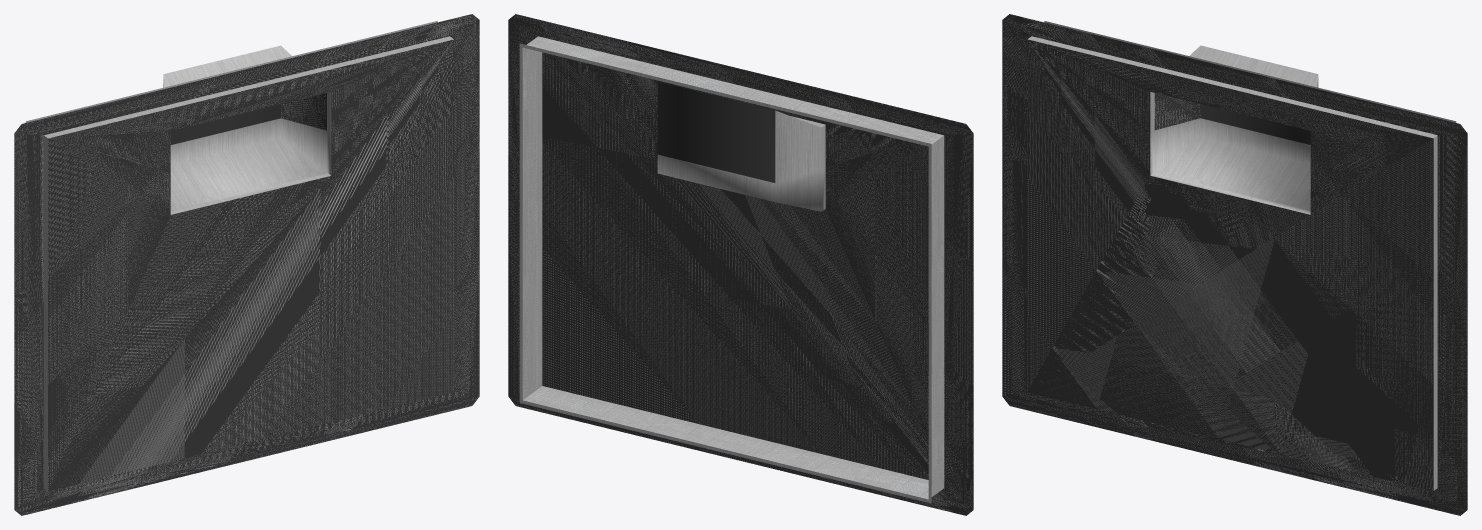
Rendered from original-29.obj.
3 renders of one model, left to right at view 1: azimuth 30°, elevation 25°; view 2: azimuth 150°, elevation 25°; view 3: azimuth 330°, elevation 25°, orthographic.
Visible parts, largest first — view 1: mesh27/mesh27-geometry#mesh27-geometry; view 2: mesh27/mesh27-geometry#mesh27-geometry; view 3: mesh27/mesh27-geometry#mesh27-geometry.
Boxes of the visible parts, x1,y1,x2,y2 form: mesh27/mesh27-geometry#mesh27-geometry: (14, 14, 479, 515); mesh27/mesh27-geometry#mesh27-geometry: (508, 14, 973, 515); mesh27/mesh27-geometry#mesh27-geometry: (1002, 14, 1467, 515).
Size of the model in its own units: 0.4203 by 0.3382 by 0.0454.
3 materials, 2 textured.
